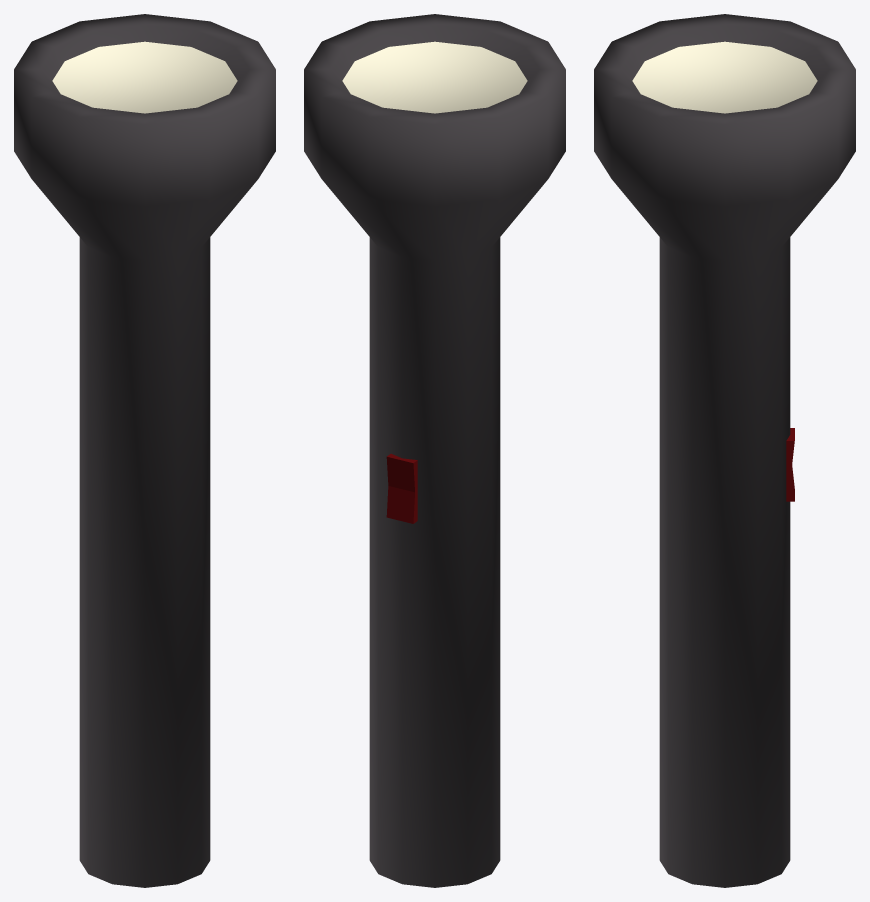
File: Flashlight.fbx
3 views of the same model, side by side, from view 1: azimuth 30°, elevation 25°; view 2: azimuth 150°, elevation 25°; view 3: azimuth 270°, elevation 25° (orthographic).
Visible parts, largest first — view 1: Flashlight; view 2: Flashlight; view 3: Flashlight.
Part boxes in pixels (x1,y1,x2,y2): Flashlight: (14, 14, 275, 887); Flashlight: (304, 14, 565, 887); Flashlight: (594, 14, 855, 887).
Size of the model in its own units: 6.57 by 21.89 by 6.57.
